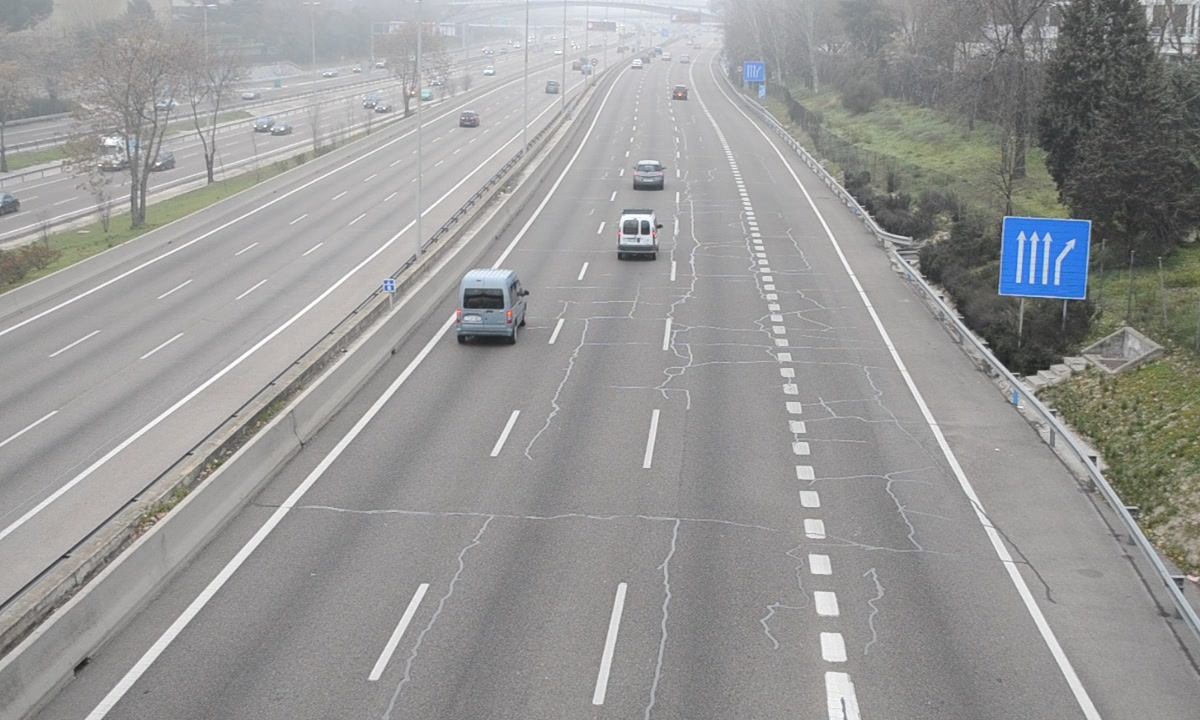car: (631, 160, 666, 192)
van: (454, 271, 525, 340), (617, 210, 659, 259)
